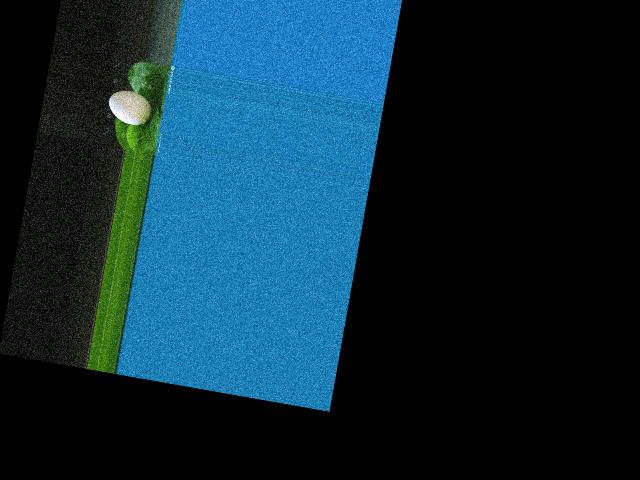egg: (105, 88, 154, 128)
